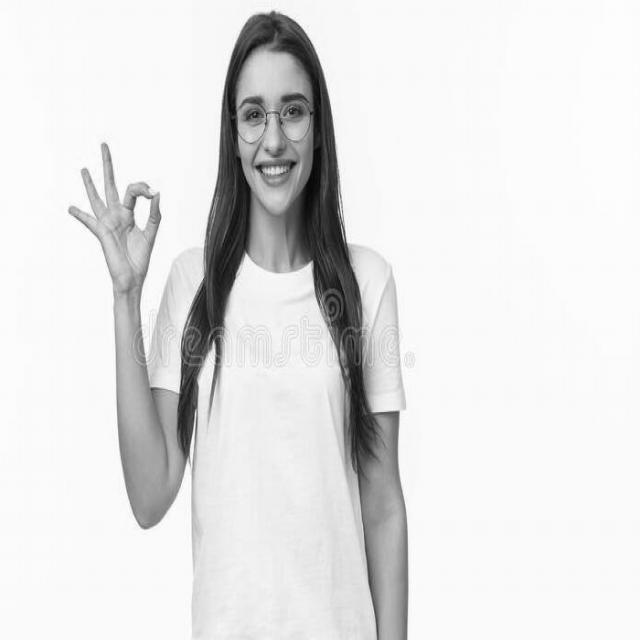perfect: (61, 132, 168, 304)
